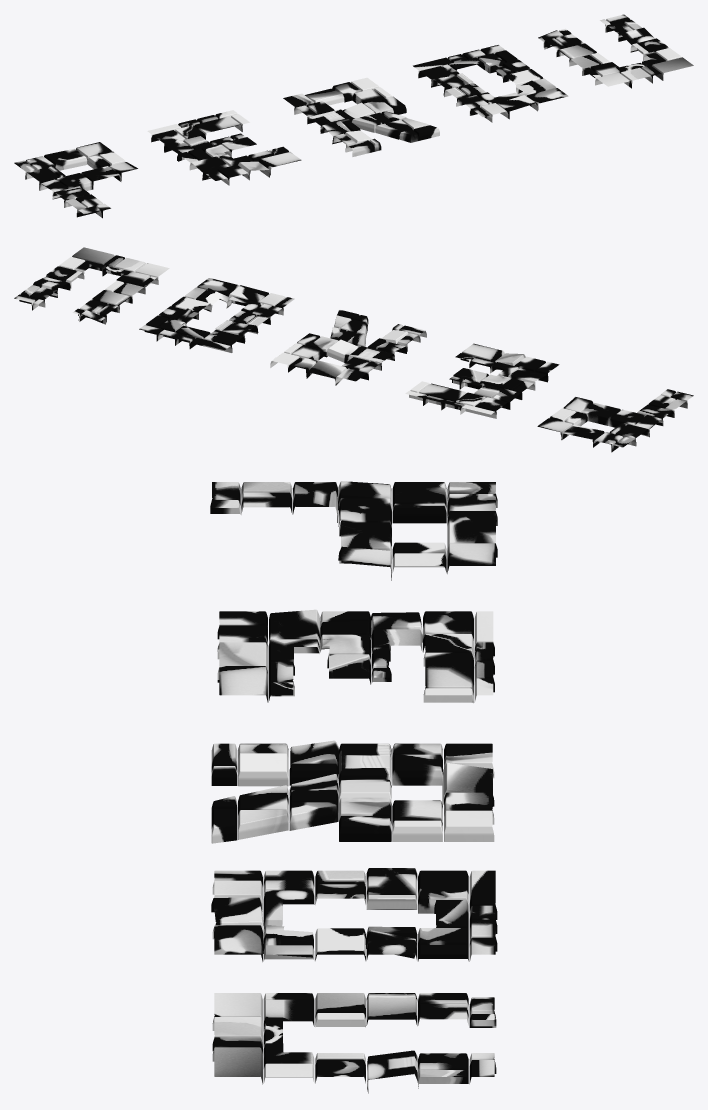
The model's file is peruTuiles.gltf.
The picture shows the model from 3 angles, top to bottom: view 1: azimuth 30°, elevation 25°; view 2: azimuth 150°, elevation 25°; view 3: azimuth 270°, elevation 25°; orthographic projection. The views are drawn at different scales.
Parts seen in each view (by area): view 1: Plane; view 2: Plane; view 3: Plane.
Boxes of the visible parts, x1,y1,x2,y2 form: Plane: [14, 14, 693, 218]; Plane: [14, 247, 693, 452]; Plane: [210, 481, 497, 1093].
Bounding box in the file's own units: 14.01 × 0.2777 × 2.85.
1 material, 1 textured.
